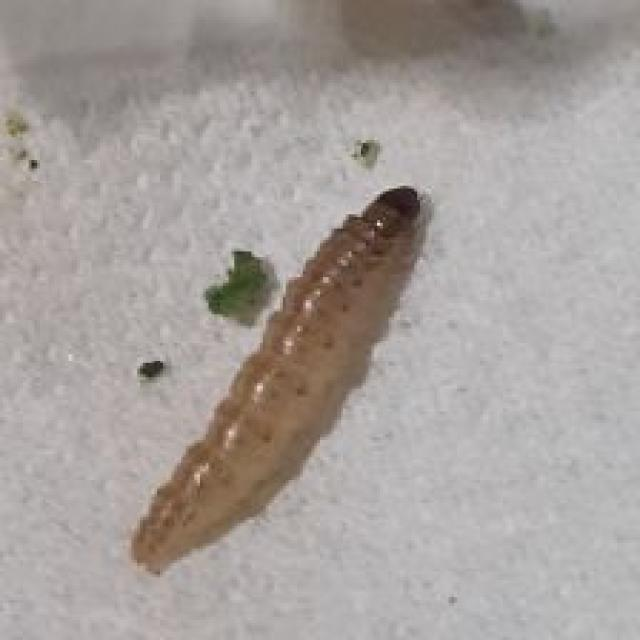white mucus: (119, 184, 434, 593)
